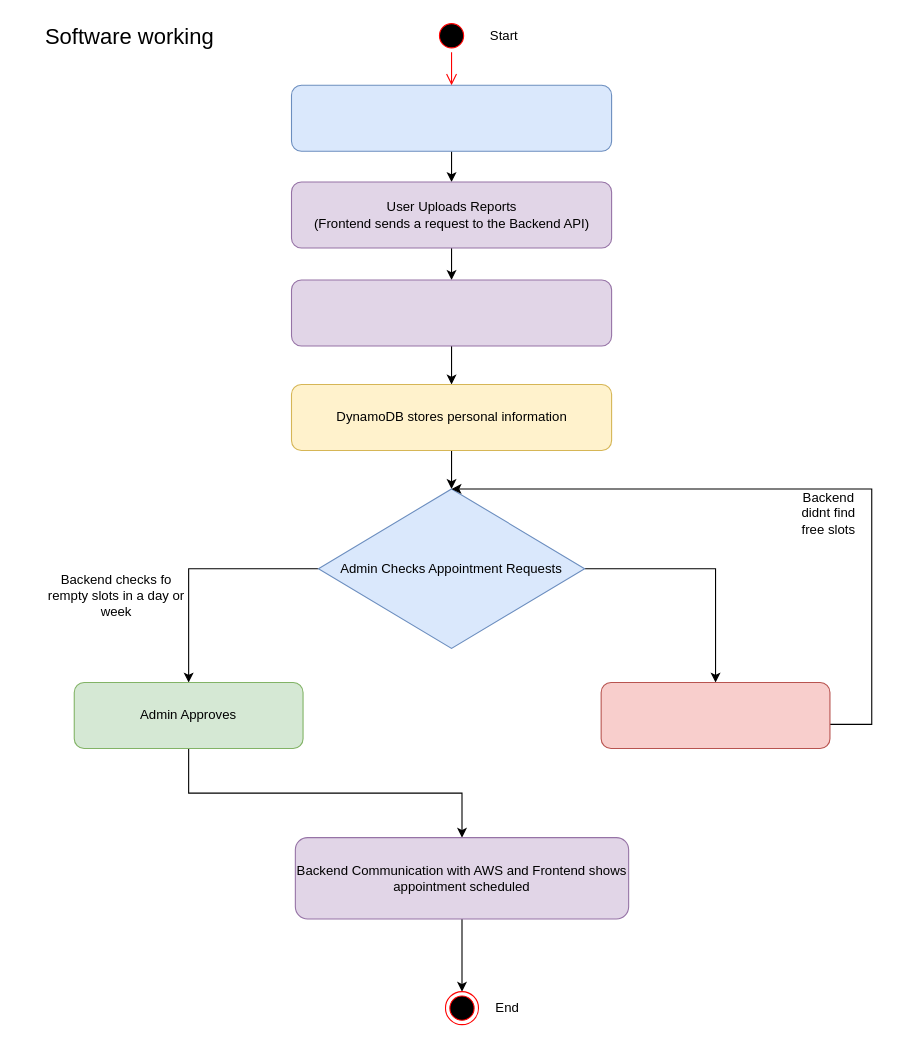
This 900x1044 diagram has some shape labels left out. The shapes that lost their labels are listed below. From the top down, each one's centre as x and y in pixels, then its label:
(x=451, y=117): User Books an Appointment(Frontend)
(x=451, y=312): Backend Handles Appointment Request
(x=715, y=715): No free slot
